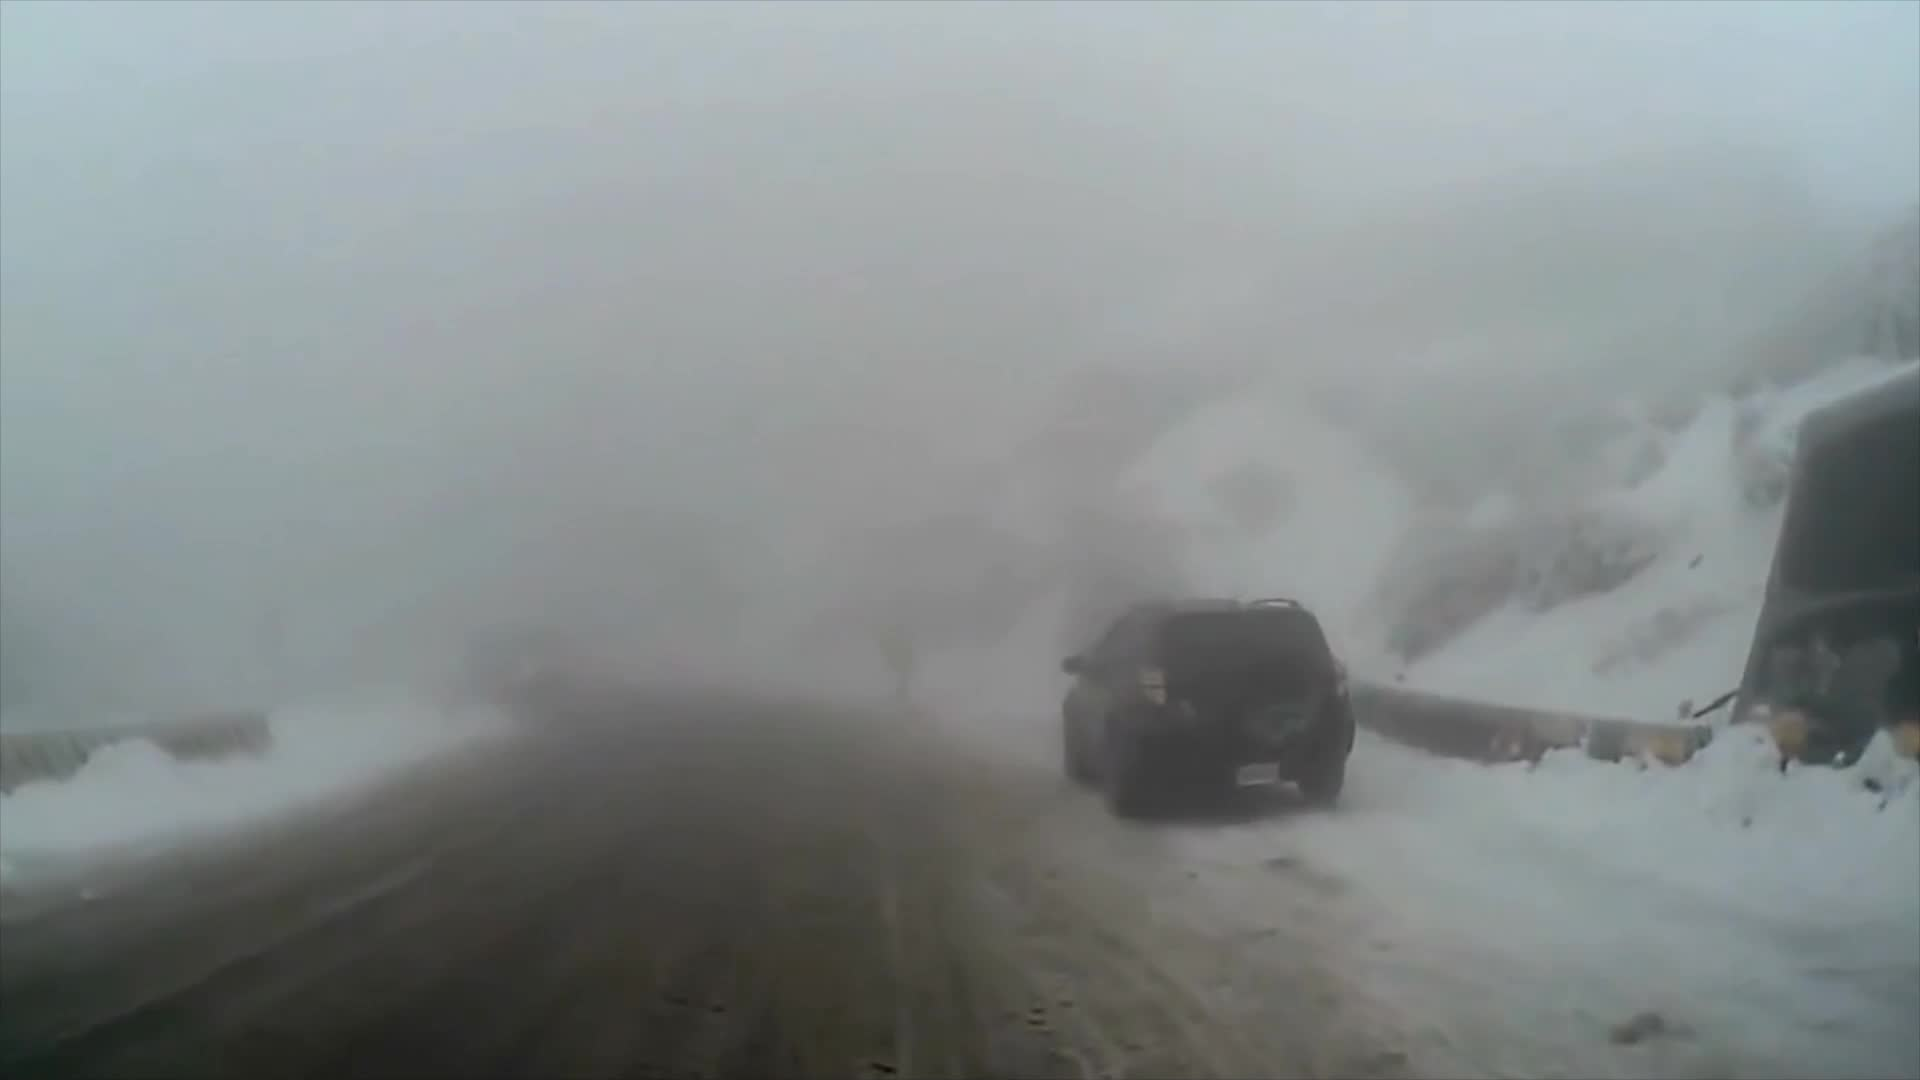vehicle: (1059, 593, 1360, 825)
